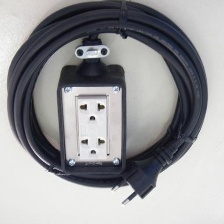three_eye_plug: (51, 62, 131, 176)
